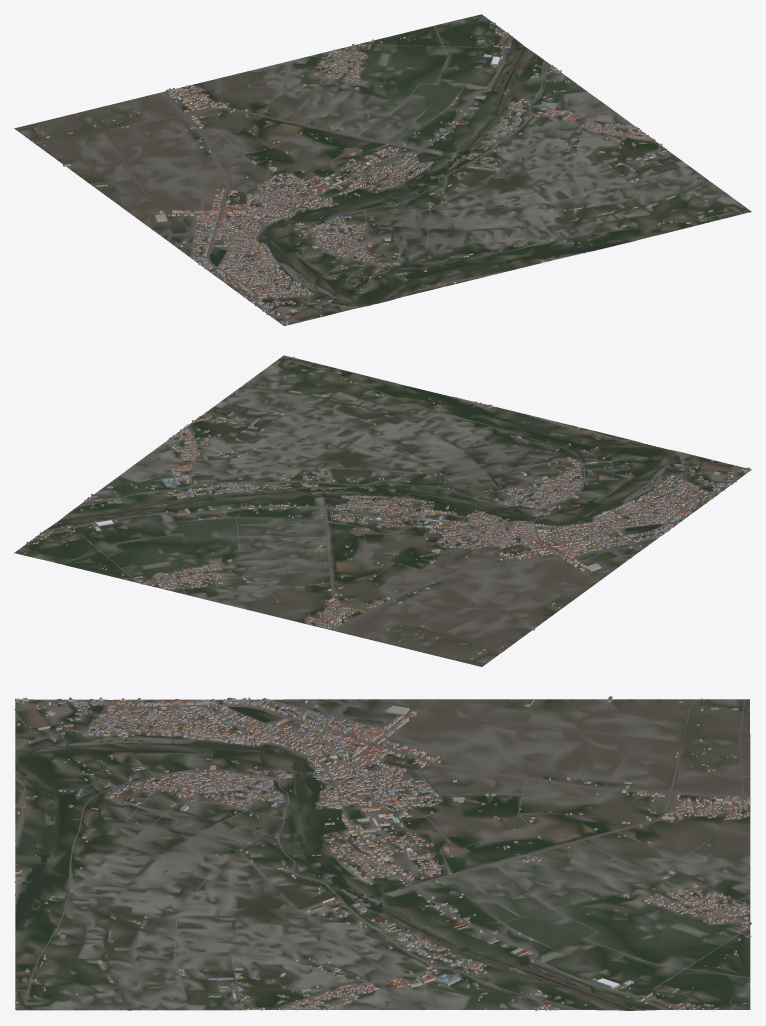
The picture shows the model from 3 angles, top to bottom: view 1: azimuth 30°, elevation 25°; view 2: azimuth 150°, elevation 25°; view 3: azimuth 270°, elevation 25°; orthographic projection. The views are drawn at different scales.
Visible parts, largest first — view 1: ground, buildings, roads, water; view 2: ground, buildings, roads, water; view 3: ground, buildings, roads, water.
Boxes of the visible parts, x1=… form: ground: x1=14, y1=14, x2=751, y2=325; buildings: x1=32, y1=17, x2=742, y2=325; roads: x1=16, y1=19, x2=745, y2=324; water: x1=35, y1=46, x2=632, y2=309; ground: x1=14, y1=355, x2=751, y2=666; buildings: x1=24, y1=356, x2=750, y2=660; roads: x1=21, y1=361, x2=749, y2=665; water: x1=57, y1=385, x2=716, y2=651; ground: x1=15, y1=699, x2=750, y2=1010; buildings: x1=14, y1=696, x2=751, y2=1010; roads: x1=14, y1=698, x2=750, y2=1010; water: x1=15, y1=699, x2=716, y2=1010.
Bounding box in the file's own units: 2823 × 26.54 × 2815.
